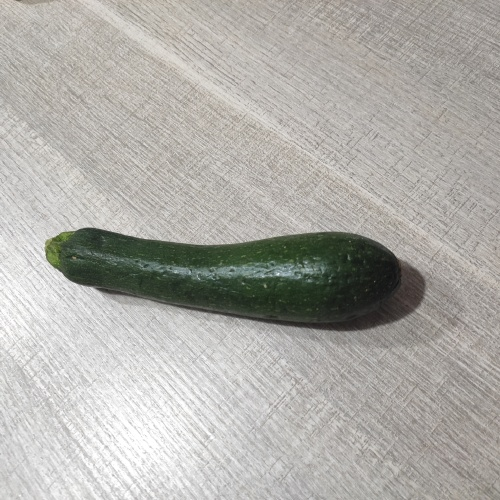zucchine: (45, 225, 410, 332)
